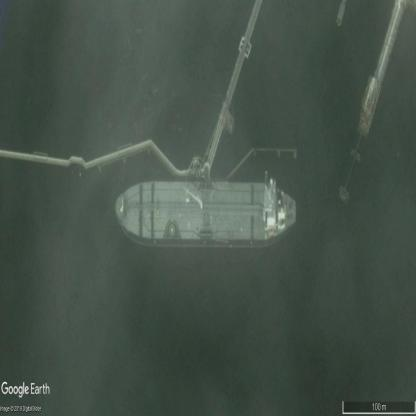ship: (113, 177, 297, 243)
